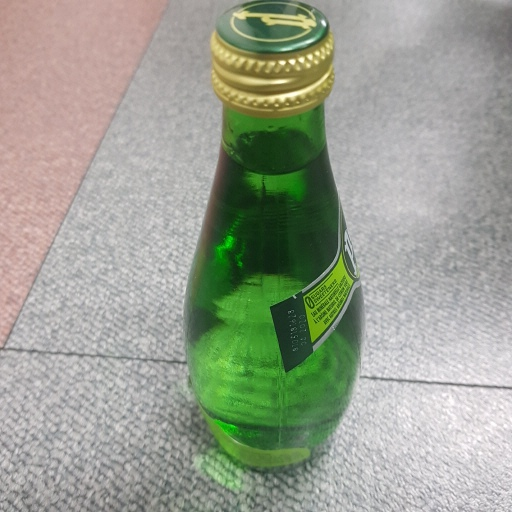Glass_4: (184, 3, 371, 471)
